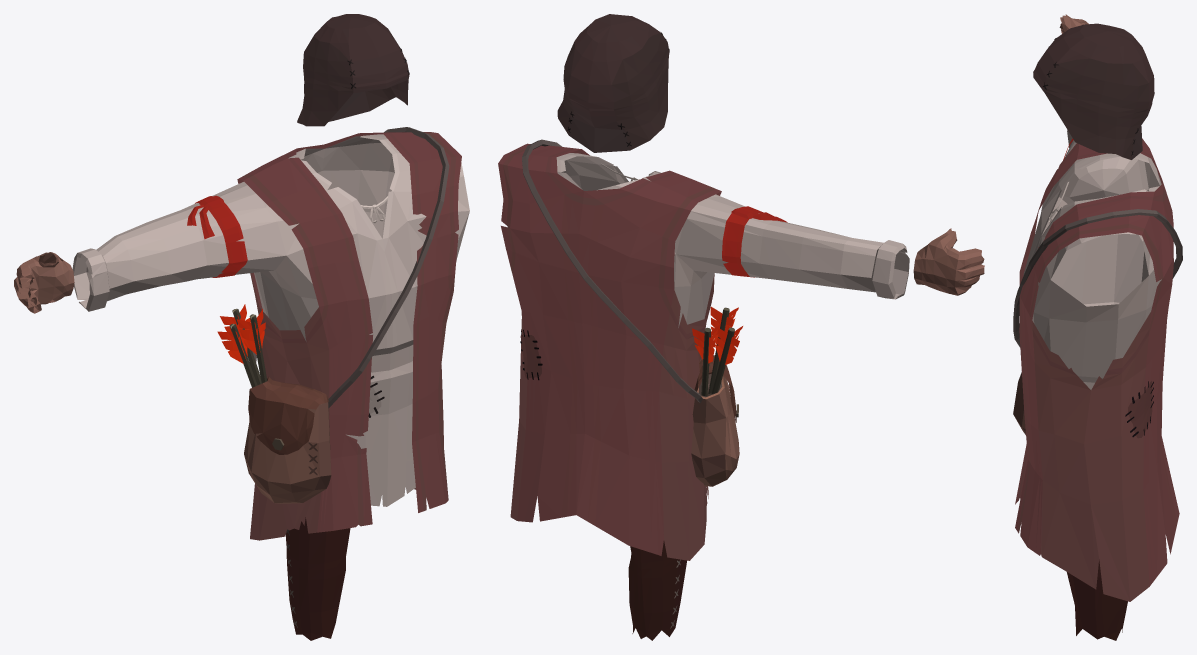
Rendered from peasant.glb.
The picture shows the model from 3 angles, left to right: view 1: azimuth 30°, elevation 25°; view 2: azimuth 150°, elevation 25°; view 3: azimuth 270°, elevation 25°; orthographic projection. The views are drawn at different scales.
Visible parts, largest first — view 1: peasantCoat, peasantManShirt, peasantBagQuiver, peasantManHat, peasantManLowerArm, peasantManUpperArm, peasantPantsLowerLeg, peasantGlove, peasantsPantsUpperLeg; view 2: peasantCoat, peasantManHat, peasantBagQuiver, peasantManLowerArm, peasantManUpperArm, peasantManShirt, peasantPantsLowerLeg, peasantGlove; view 3: peasantCoat, peasantManShirt, peasantManHat, peasantManUpperArm, peasantPantsLowerLeg, peasantBagQuiver, peasantGlove.
Boxes of the visible parts, x1,y1,x2,y2 form: peasantCoat: (237,132,461,540); peasantManShirt: (254,134,469,506); peasantBagQuiver: (217,127,449,503); peasantManHat: (297,14,409,126); peasantManLowerArm: (72,213,196,311); peasantManUpperArm: (171,182,286,281); peasantPantsLowerLeg: (286,548,345,640); peasantGlove: (14,252,74,313); peasantsPantsUpperLeg: (285,517,350,564); peasantCoat: (498,143,721,560); peasantManHat: (557,14,669,152); peasantBagQuiver: (522,139,742,486); peasantManLowerArm: (771,223,909,299); peasantManUpperArm: (676,196,790,280); peasantManShirt: (507,153,720,327); peasantPantsLowerLeg: (628,553,686,640); peasantGlove: (913,228,984,295); peasantCoat: (1015,138,1179,601); peasantManShirt: (1023,153,1161,389); peasantManHat: (1033,23,1154,159); peasantManUpperArm: (1059,137,1148,203); peasantPantsLowerLeg: (1067,560,1127,640); peasantBagQuiver: (1013,209,1182,434); peasantGlove: (1059,14,1088,33).
Bounding box in the file's own units: 1.34 × 1.7 × 0.4207.
